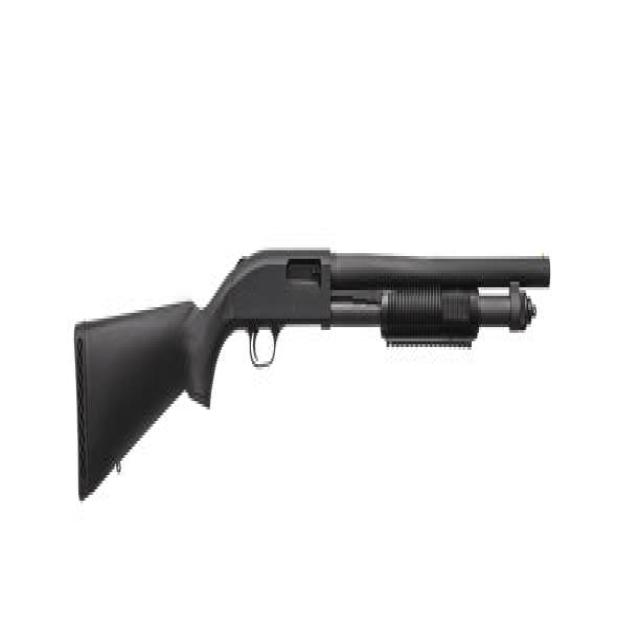rifle: (71, 226, 557, 525)
